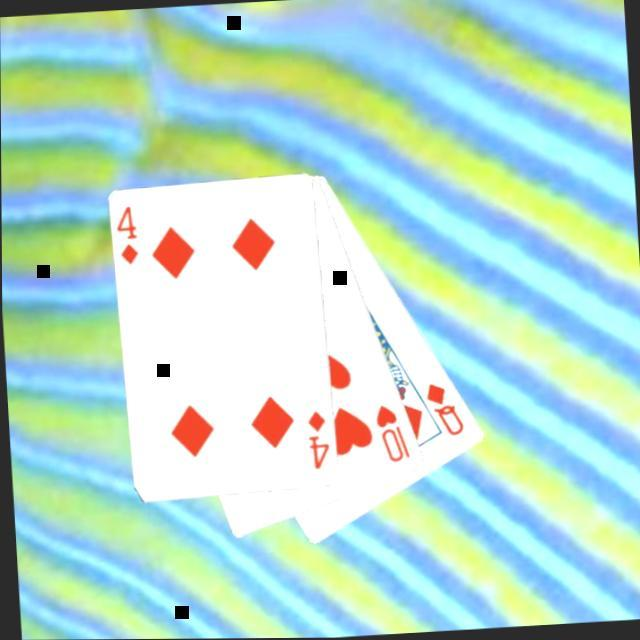10H: (372, 402, 414, 468)
4D: (304, 410, 333, 475), (114, 204, 143, 269)
QD: (423, 380, 468, 442)
